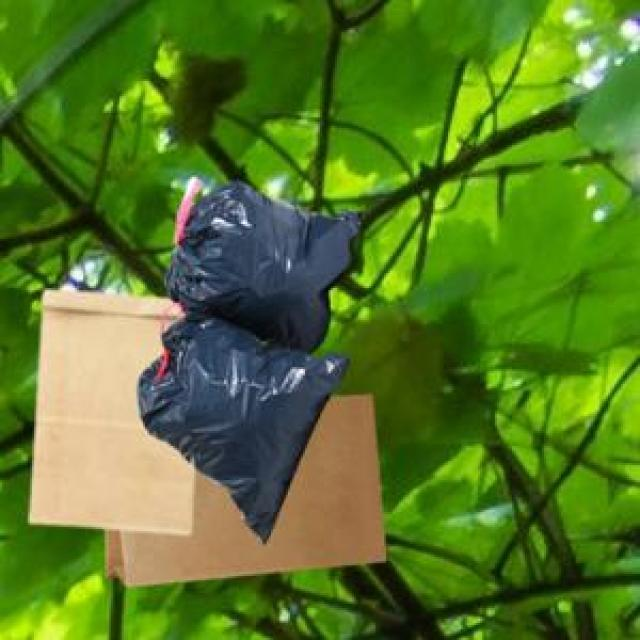miscellaneous trash: (134, 173, 358, 540)
paper: (101, 390, 381, 582), (26, 286, 190, 529)
